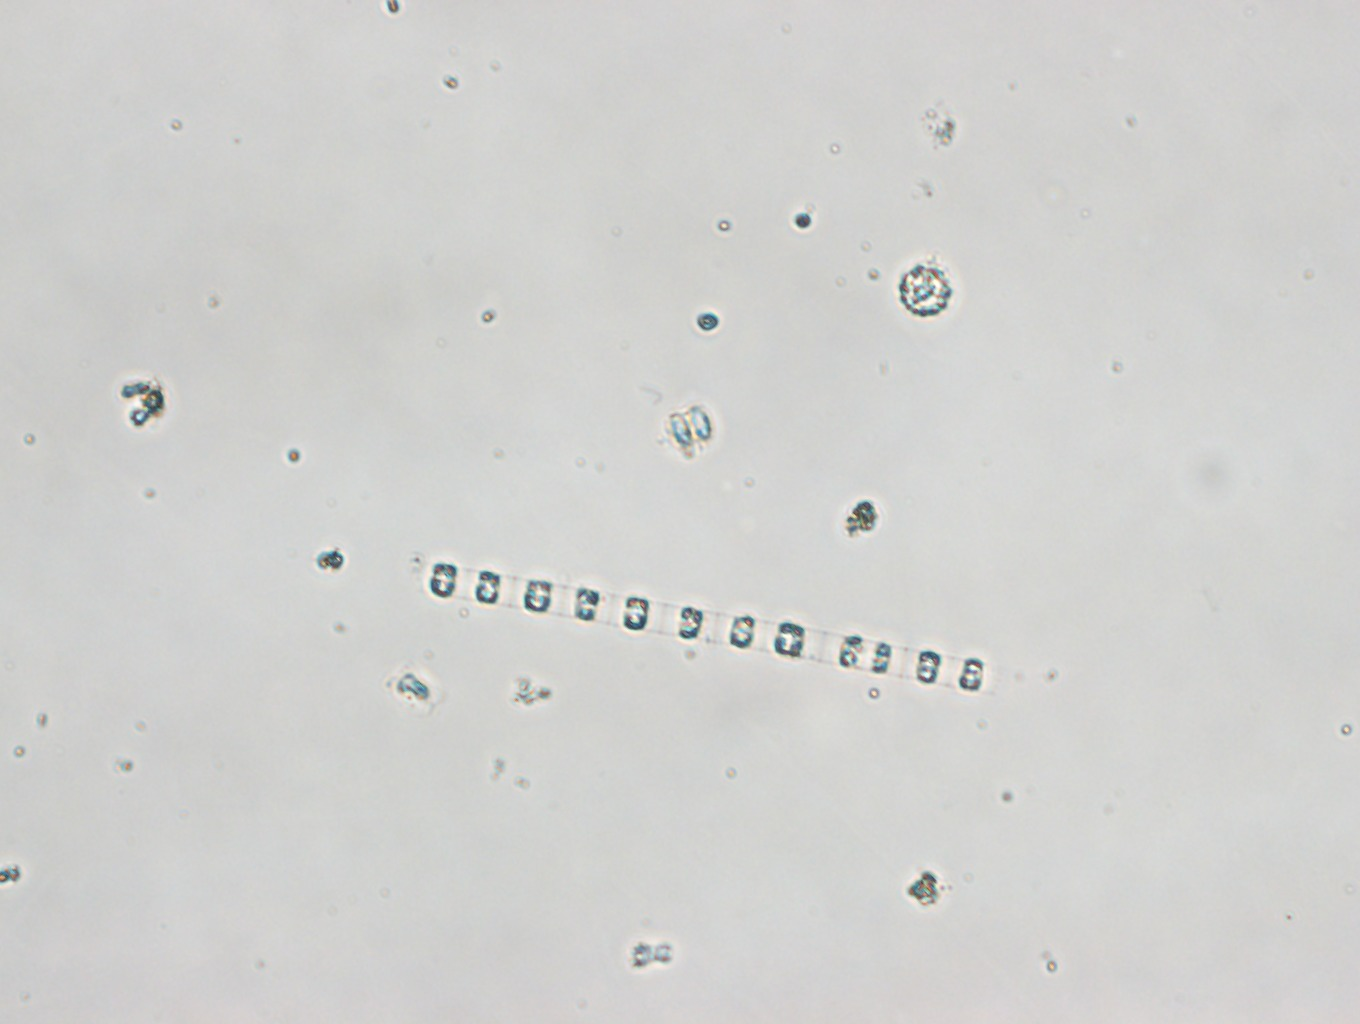skeletonema: (425, 561, 991, 696)
